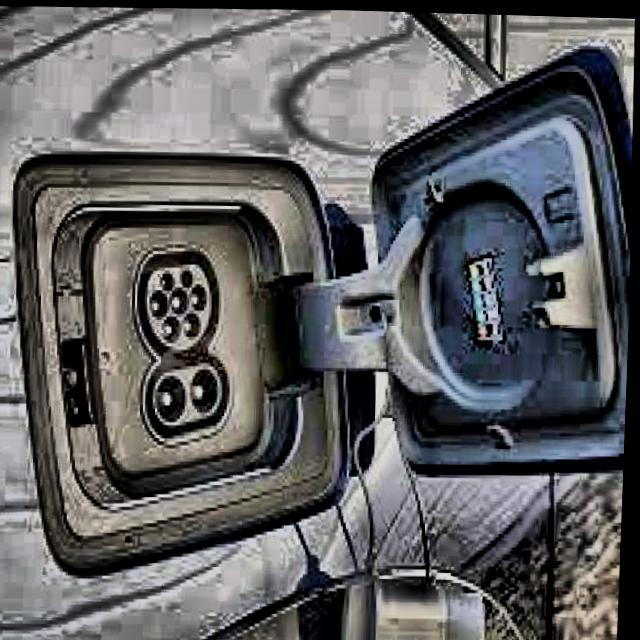inlet: (146, 262, 214, 349)
inlet-above-left: (163, 271, 176, 289)
inlet-above-right: (182, 269, 195, 286)
inlet-below-left: (165, 315, 183, 341)
inlet-below-right: (186, 310, 202, 336)
inlet-center: (172, 286, 192, 314)
inlet-center-left: (152, 289, 171, 316)
inlet-center-right: (194, 283, 209, 309)
